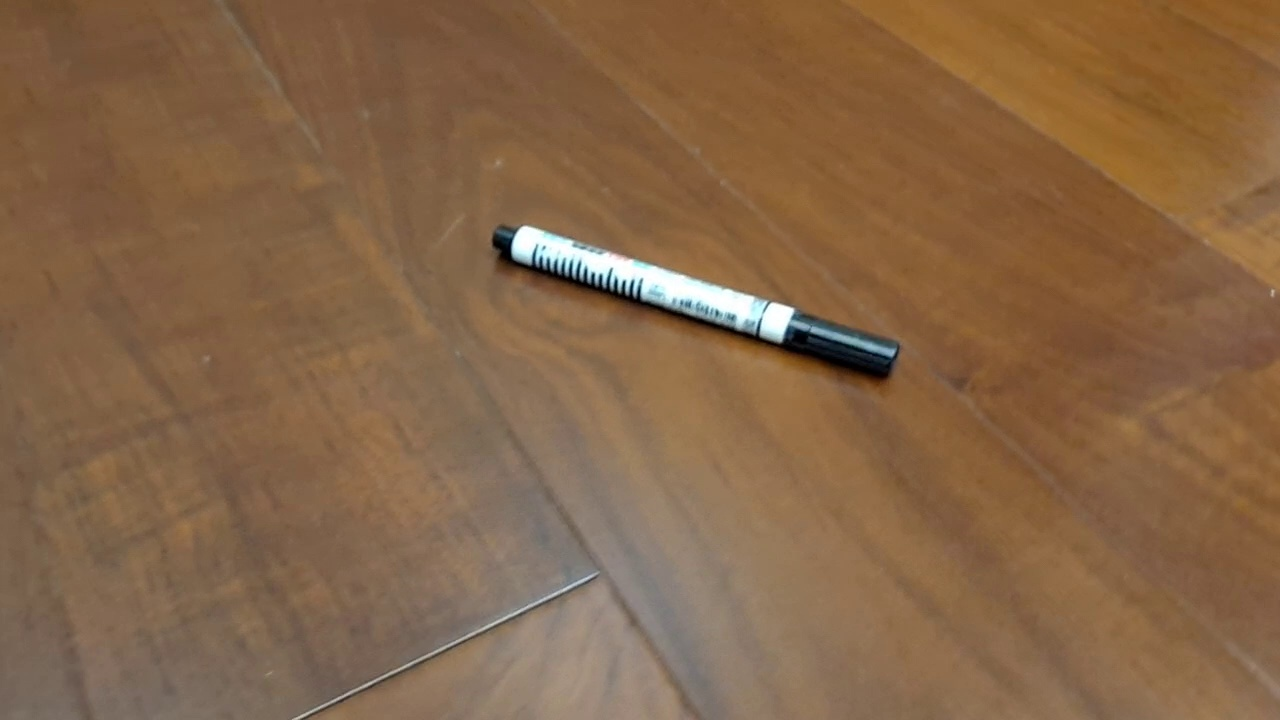pen: (491, 223, 901, 380)
